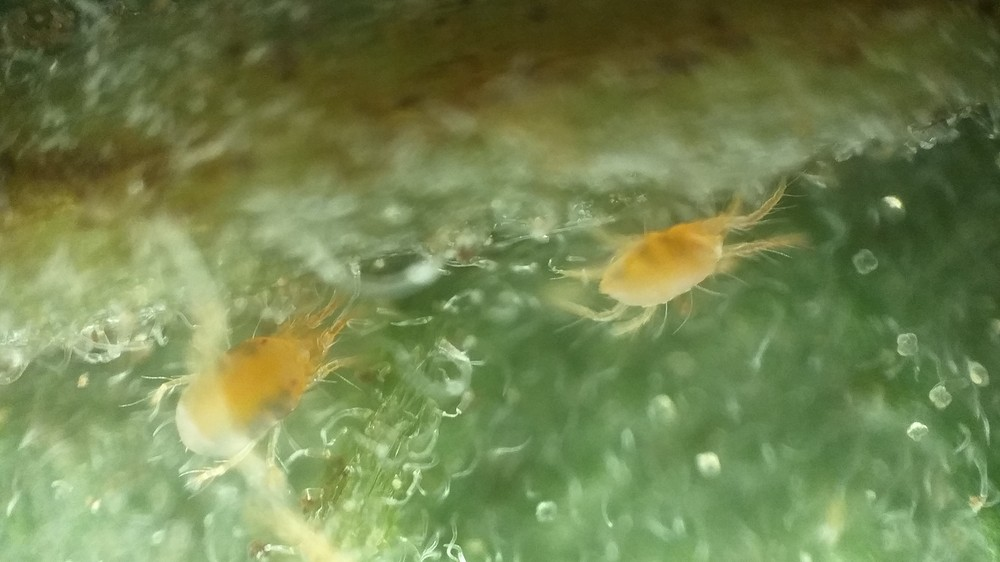Aracnido Rojo: (129, 284, 388, 493), (551, 174, 828, 340)
